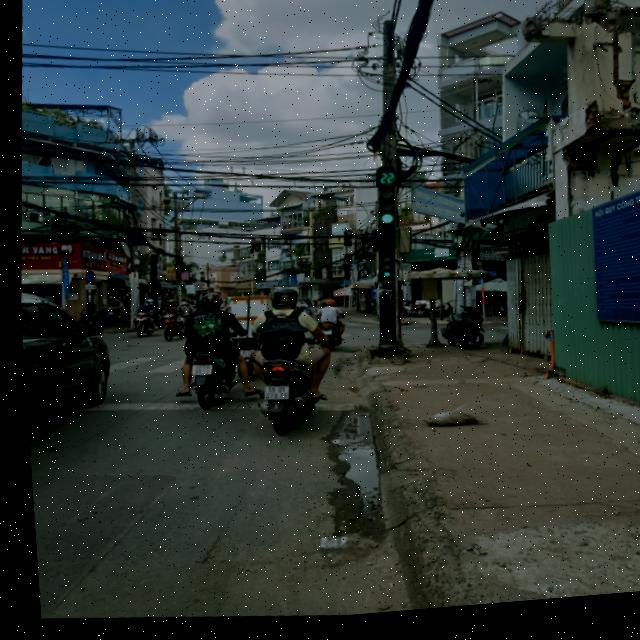Green: (364, 191, 400, 237), (372, 259, 400, 294)
